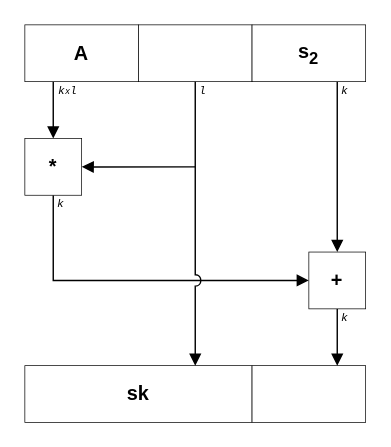
Some shapes in this 391 by 447 pixel diagram are drawn without their labels. Each missing label, with the centre of its shape:
"pk" belongs at (308,393).
"s 1" belongs at (194,52).
